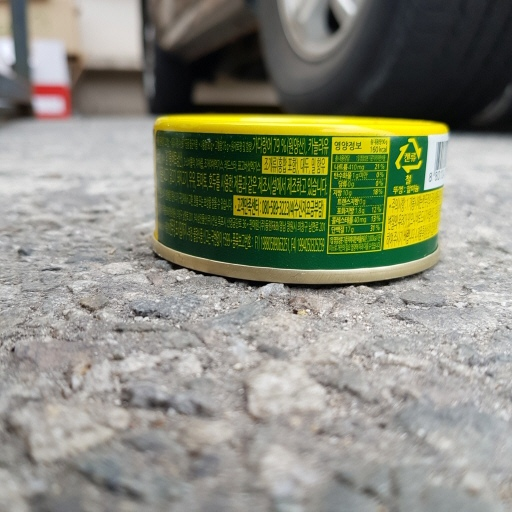Metal_1: (146, 115, 453, 283)
